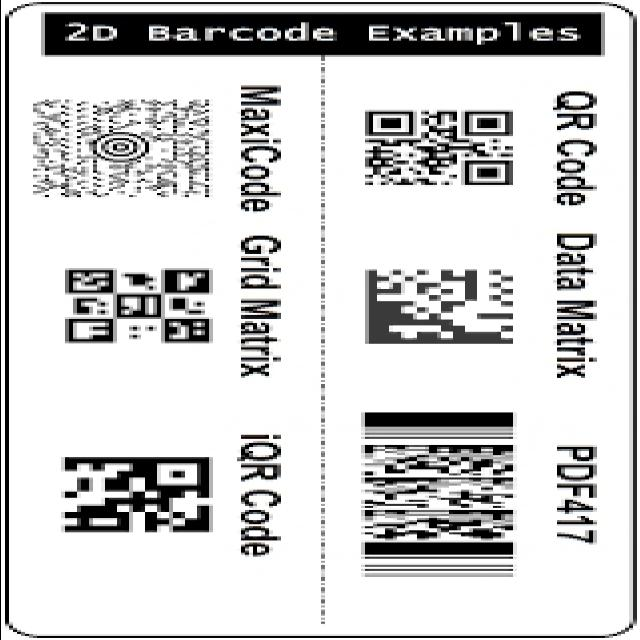DataMatrix: (356, 264, 524, 348)
